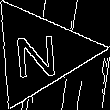N_N: (16, 26, 64, 80)
